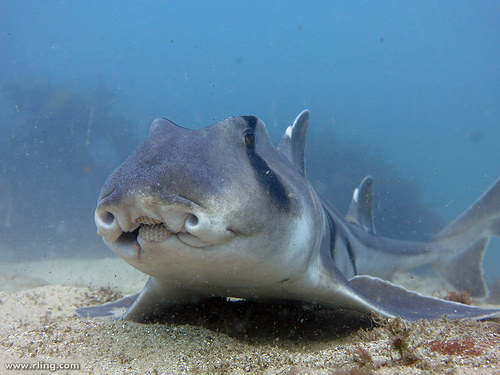shark: (54, 81, 494, 342)
